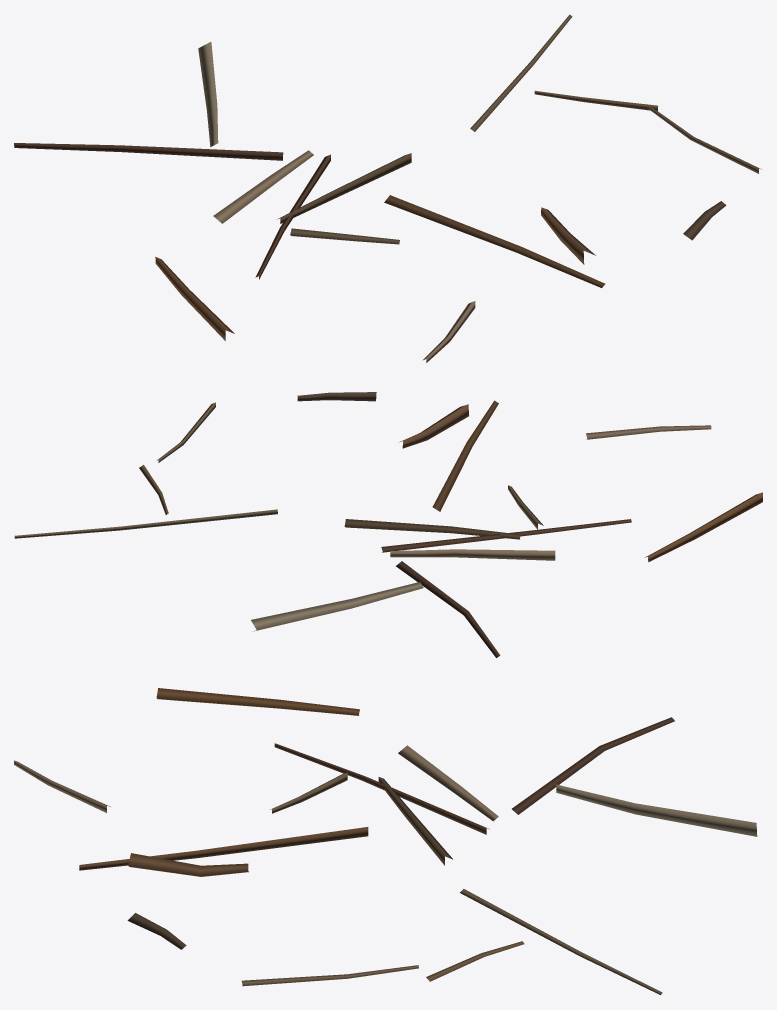
The model's file is twigs-a.lod1.glb.
3 views of the same model, one above another, from view 1: azimuth 30°, elevation 25°; view 2: azimuth 150°, elevation 25°; view 3: azimuth 270°, elevation 25° (orthographic). The views are drawn at different scales.
Size of the model in its own units: 1.21 by 0.0414 by 1.31.
